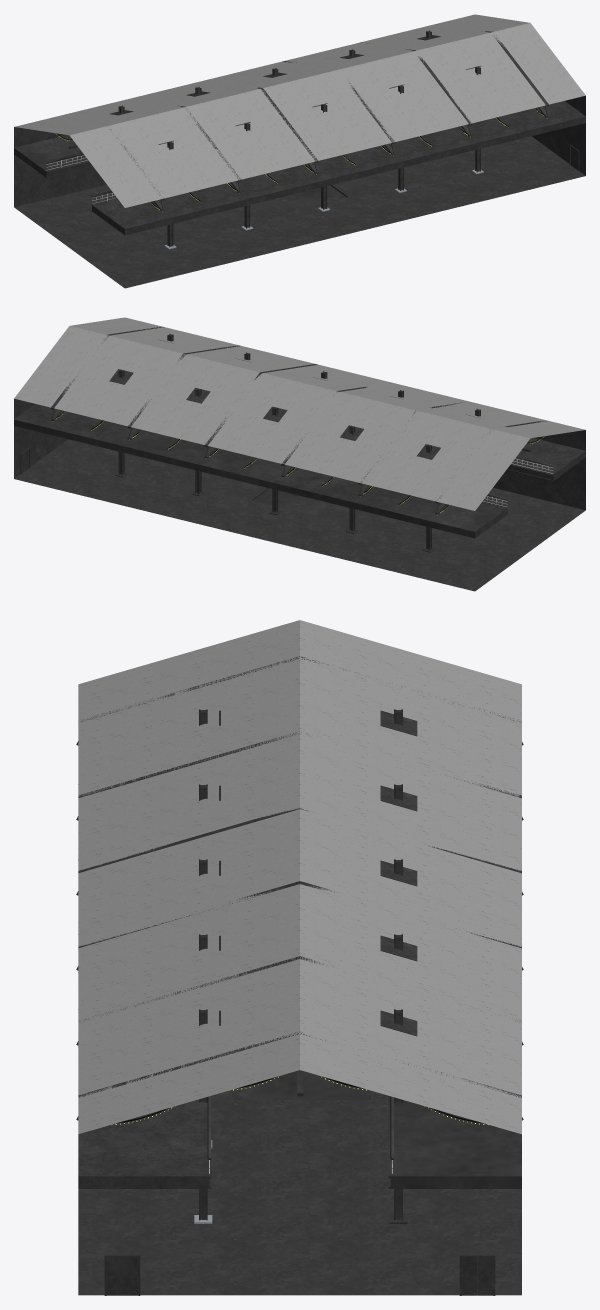
The model's file is Main_Building.glb.
3 renders of one model, top to bottom at view 1: azimuth 30°, elevation 25°; view 2: azimuth 150°, elevation 25°; view 3: azimuth 270°, elevation 25°, orthographic. The views are drawn at different scales.
Parts seen in each view (by area): view 1: Main Buidling.002, Balconies.004, Balconies.005, A-Truss.002, Pillars.002; view 2: Main Buidling.002, Balconies.005, Pillars.002, Balconies.004, A-Truss.002; view 3: Main Buidling.002, Balconies.005, Balconies.004, Pillars.002, A-Truss.002, Entrance Doors.004, Entrance Doors.005.
Part boxes in pixels (x1,y1,x2,y2): Main Buidling.002: [14, 14, 585, 288]; Balconies.004: [91, 101, 585, 235]; Balconies.005: [14, 135, 93, 178]; A-Truss.002: [51, 31, 548, 211]; Pillars.002: [109, 30, 483, 249]; Main Buidling.002: [14, 317, 585, 591]; Balconies.005: [14, 404, 508, 538]; Pillars.002: [109, 333, 480, 552]; Balconies.004: [506, 438, 585, 481]; A-Truss.002: [51, 326, 547, 514]; Main Buidling.002: [78, 620, 521, 1295]; Balconies.005: [388, 1096, 521, 1188]; Balconies.004: [78, 1099, 211, 1188]; Pillars.002: [194, 709, 417, 1223]; A-Truss.002: [76, 656, 523, 1120]; Entrance Doors.004: [104, 1254, 140, 1295]; Entrance Doors.005: [459, 1254, 495, 1295].
Size of what is drawn, in the model's own units: 60.1 by 14.2 by 25.19.
Materials: 7 (5 with a texture image).
